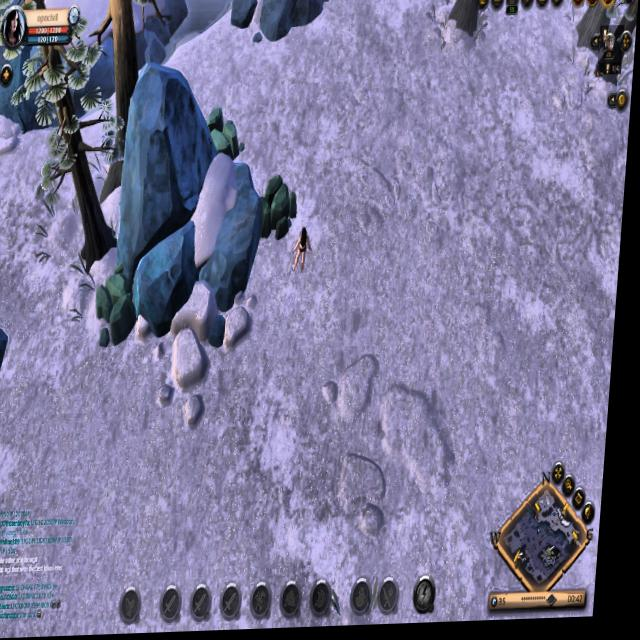sandstone: (98, 265, 150, 359), (256, 172, 304, 247), (203, 102, 251, 168)
